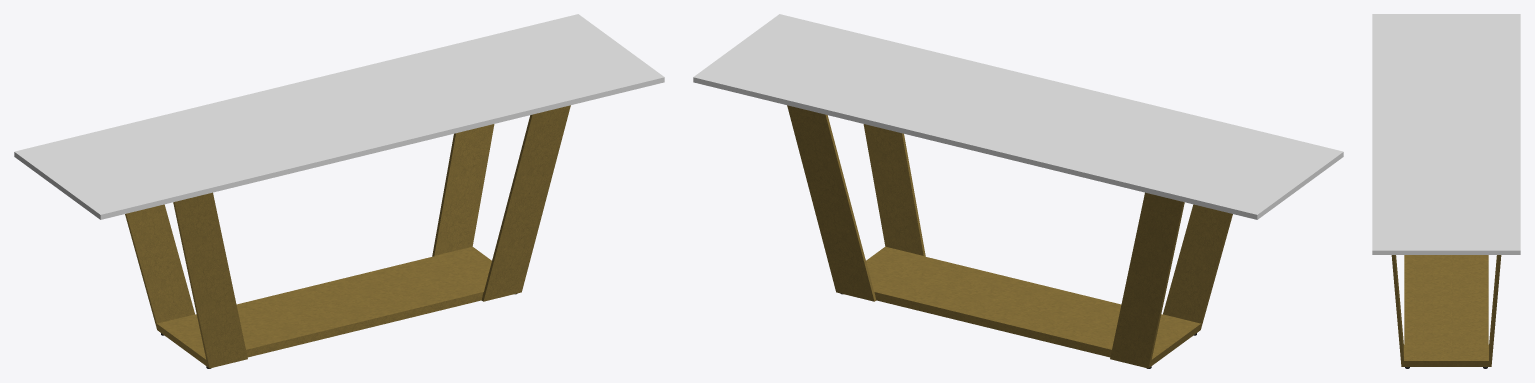
3 views of the same model, side by side, from view 1: azimuth 30°, elevation 25°; view 2: azimuth 150°, elevation 25°; view 3: azimuth 270°, elevation 25° (orthographic). The views are drawn at different scales.
Parts seen in each view (by area): view 1: Object.001, Object, Object.008, Object.002; view 2: Object.001, Object, Object.008, Object.002; view 3: Object.001, Object, Object.008.
Boxes of the visible parts, x1,y1,x2,y2 form: Object.001: (14, 14, 664, 219); Object: (157, 246, 491, 366); Object.008: (432, 105, 570, 301); Object.002: (125, 192, 247, 368); Object.001: (693, 14, 1343, 219); Object: (866, 246, 1200, 366); Object.008: (787, 105, 925, 301); Object.002: (1110, 192, 1232, 368); Object.001: (1372, 14, 1520, 254); Object: (1404, 255, 1488, 366); Object.008: (1391, 255, 1501, 366).
Bounding box in the file's own units: 2.8 × 0.9462 × 0.743.
Materials: 4 (1 with a texture image).
